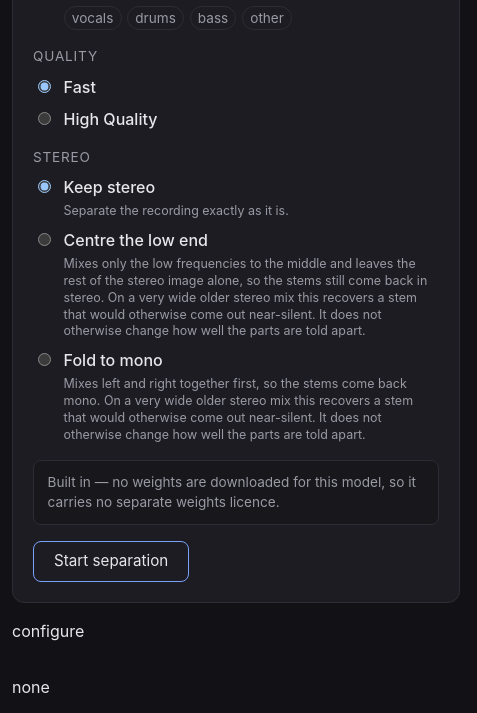
Scenario: SeparationOptions starting a separation › tracks the returned job and advances the workflow to separate
The width and height of the screenshot is (477, 713).
(page scrolled)
Click the button "Start separation" at (111, 561), box x1=33 y1=541 x2=189 y2=582
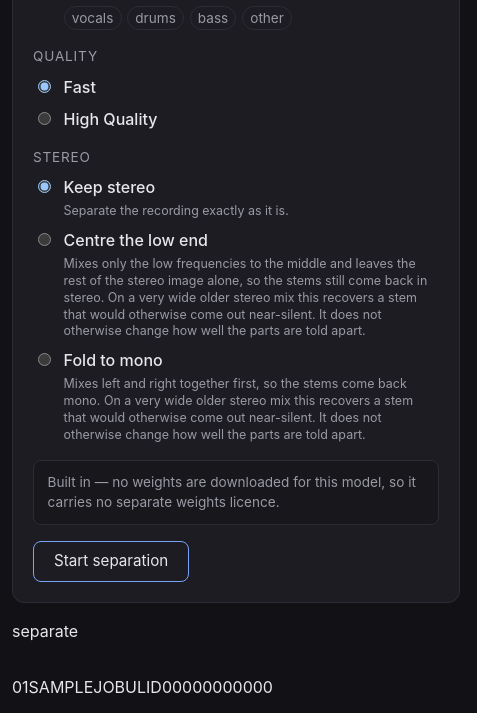
Expected: the text with test id "phase" reads "separate", x1=12 y1=620 x2=78 y2=640
Expected: the text with test id "tracked-job" reads "01SAMPLEJOBULID00000000000", x1=12 y1=676 x2=273 y2=696
